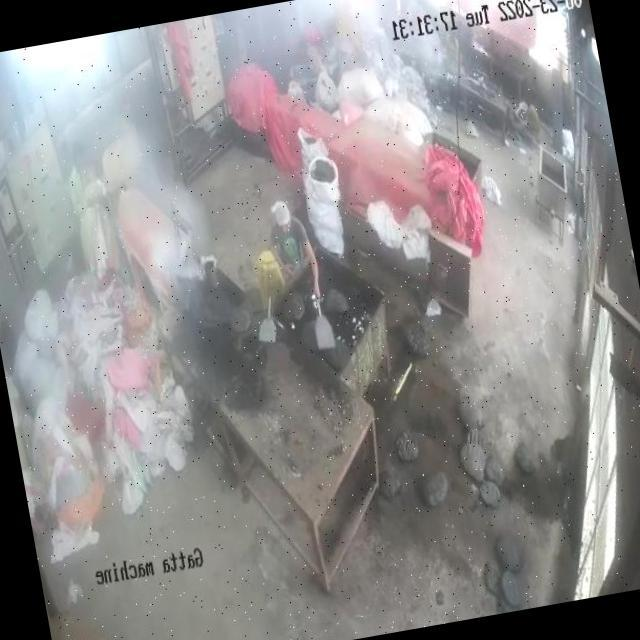person: (63, 141, 115, 269), (261, 198, 316, 288)
